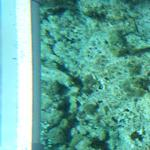dead: (1, 1, 148, 148)
